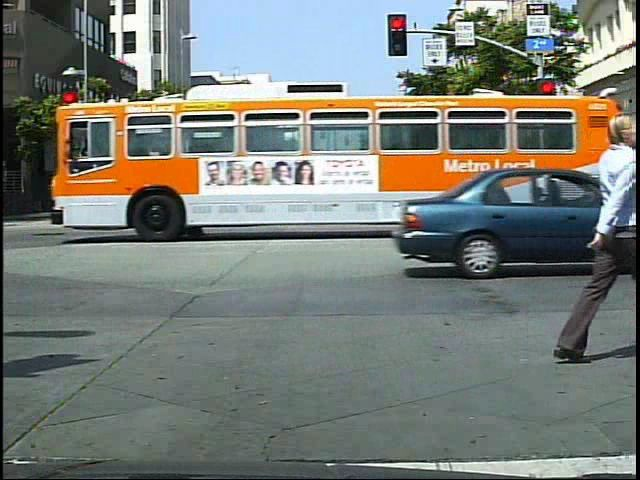person: (295, 165, 327, 229), (199, 167, 228, 233), (330, 166, 359, 230), (548, 160, 571, 211)
